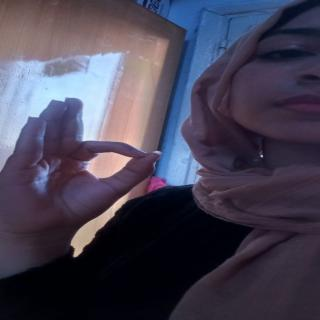Space: (13, 94, 157, 232)
